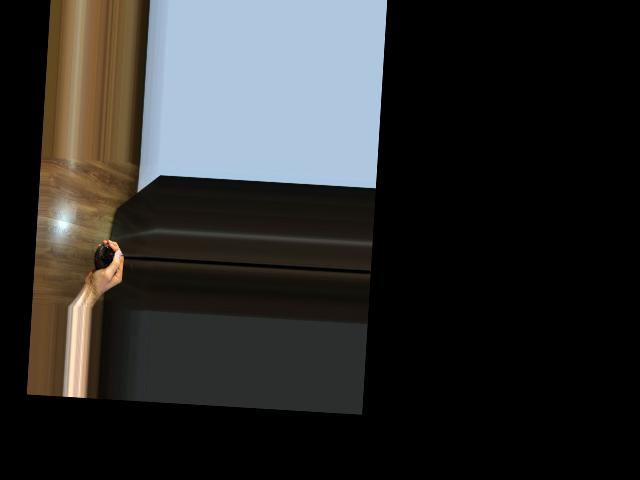beet: (93, 242, 134, 272)
